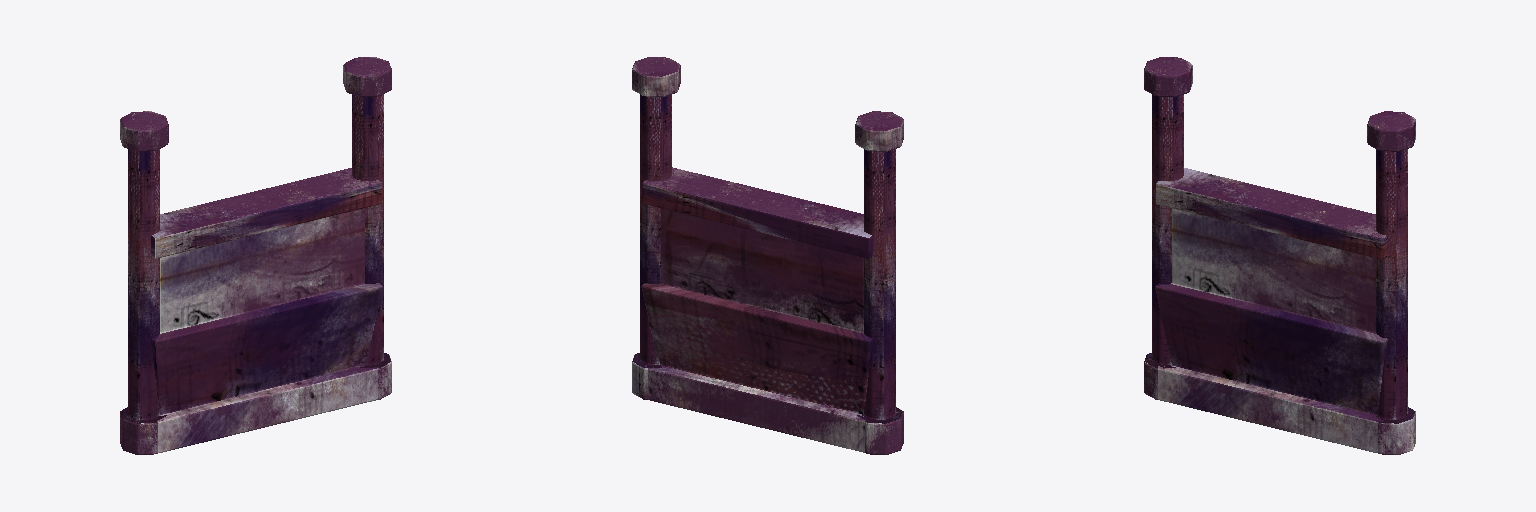
3 views of the same model, side by side, from view 1: azimuth 30°, elevation 25°; view 2: azimuth 150°, elevation 25°; view 3: azimuth 330°, elevation 25° (orthographic).
Parts seen in each view (by area): view 1: MANOR_WALL_2_2_002; view 2: MANOR_WALL_2_2_002; view 3: MANOR_WALL_2_2_002.
Part boxes in pixels (left/top/right/bottom): MANOR_WALL_2_2_002: left=120, top=57, right=391, bottom=454; MANOR_WALL_2_2_002: left=632, top=57, right=903, bottom=454; MANOR_WALL_2_2_002: left=1144, top=57, right=1415, bottom=454.
Bounding box in the file's own units: 2.57 × 3 × 0.4139.
2 materials, 2 textured.